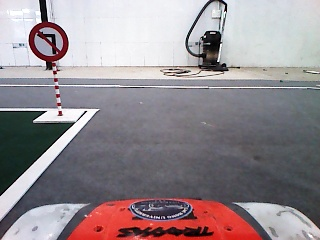ban: (26, 21, 73, 64)
